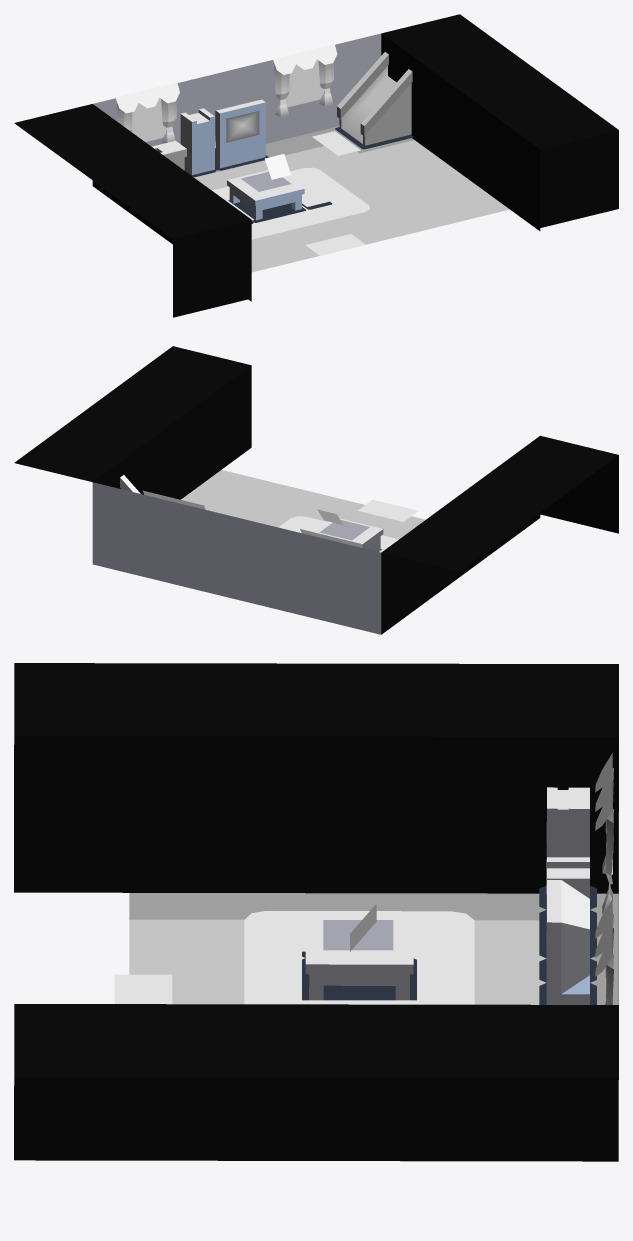
File: MyHouseDownstairs.fbx
The picture shows the model from 3 angles, top to bottom: view 1: azimuth 30°, elevation 25°; view 2: azimuth 150°, elevation 25°; view 3: azimuth 270°, elevation 25°; orthographic projection. The views are drawn at different scales.
Visible parts, largest first — view 1: pokemonhg-2023-10-10-02-42-04; view 2: pokemonhg-2023-10-10-02-42-04; view 3: pokemonhg-2023-10-10-02-42-04.
Boxes of the visible parts, x1=… form: pokemonhg-2023-10-10-02-42-04: x1=14, y1=14, x2=618, y2=317; pokemonhg-2023-10-10-02-42-04: x1=14, y1=346, x2=618, y2=634; pokemonhg-2023-10-10-02-42-04: x1=14, y1=663, x2=618, y2=1161.
Bounding box in the file's own units: 13.6 × 2.51 × 8.4.
